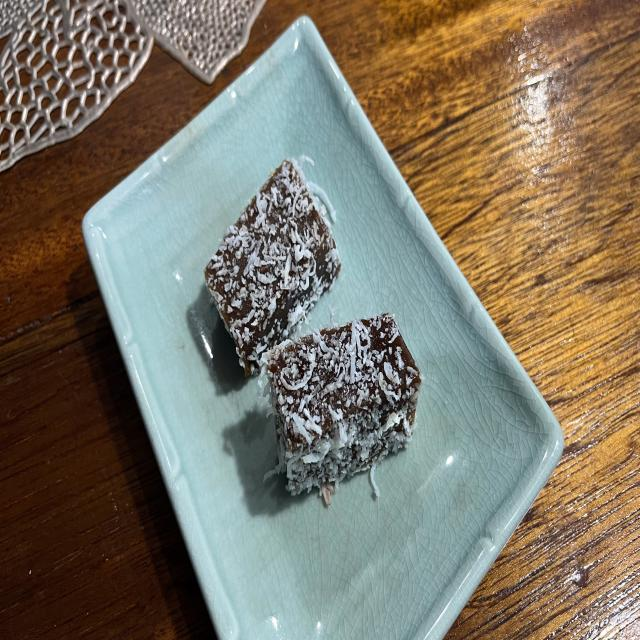kaswi: (262, 313, 422, 504), (205, 158, 341, 376)
